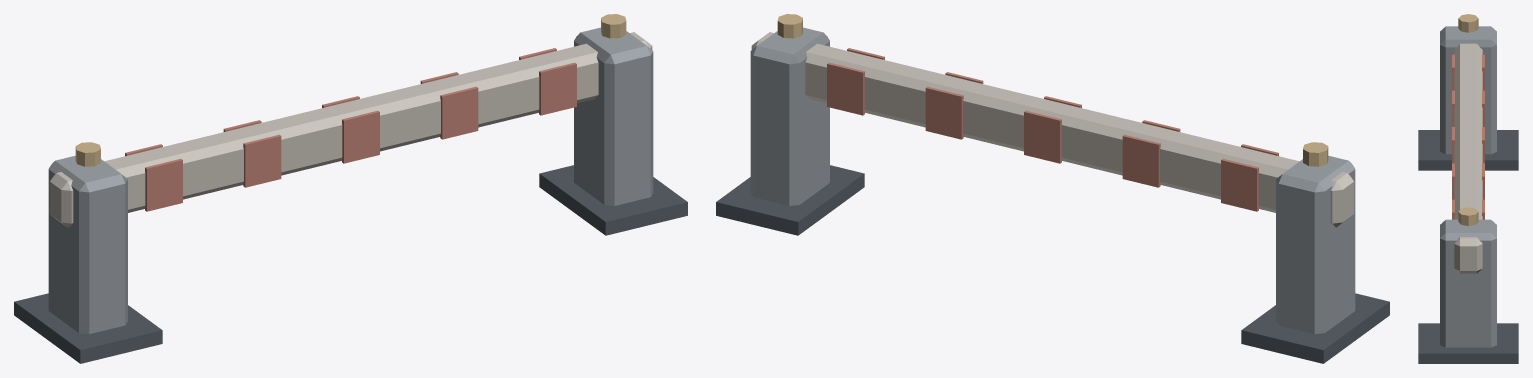
Rendered from escenario_barrier.glb.
3 renders of one model, left to right at view 1: azimuth 30°, elevation 25°; view 2: azimuth 150°, elevation 25°; view 3: azimuth 270°, elevation 25°, orthographic. The views are drawn at different scales.
Bounding box in the file's own units: 3.7 × 1.06 × 0.7.
